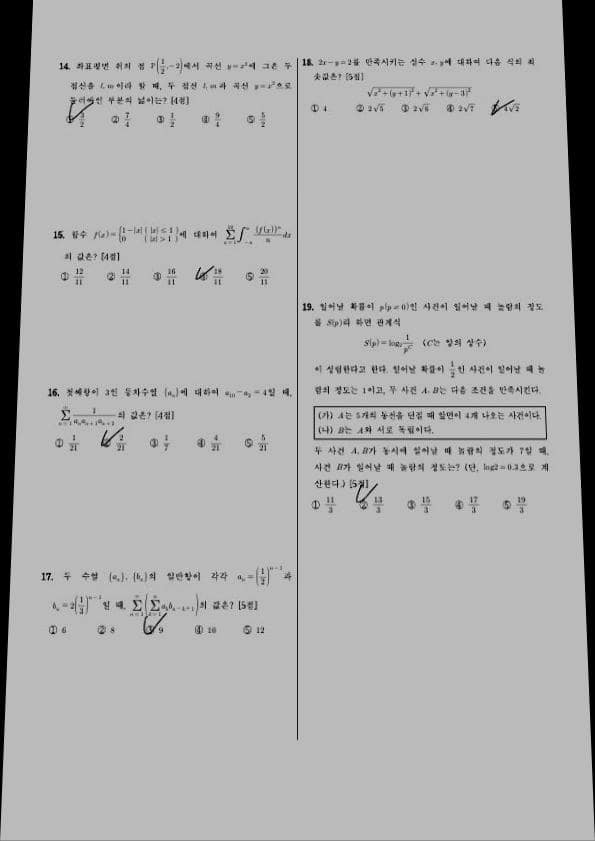question: (299, 298, 558, 528), (28, 561, 298, 647), (41, 377, 296, 464), (49, 51, 297, 138), (41, 220, 297, 297), (299, 50, 549, 128)
